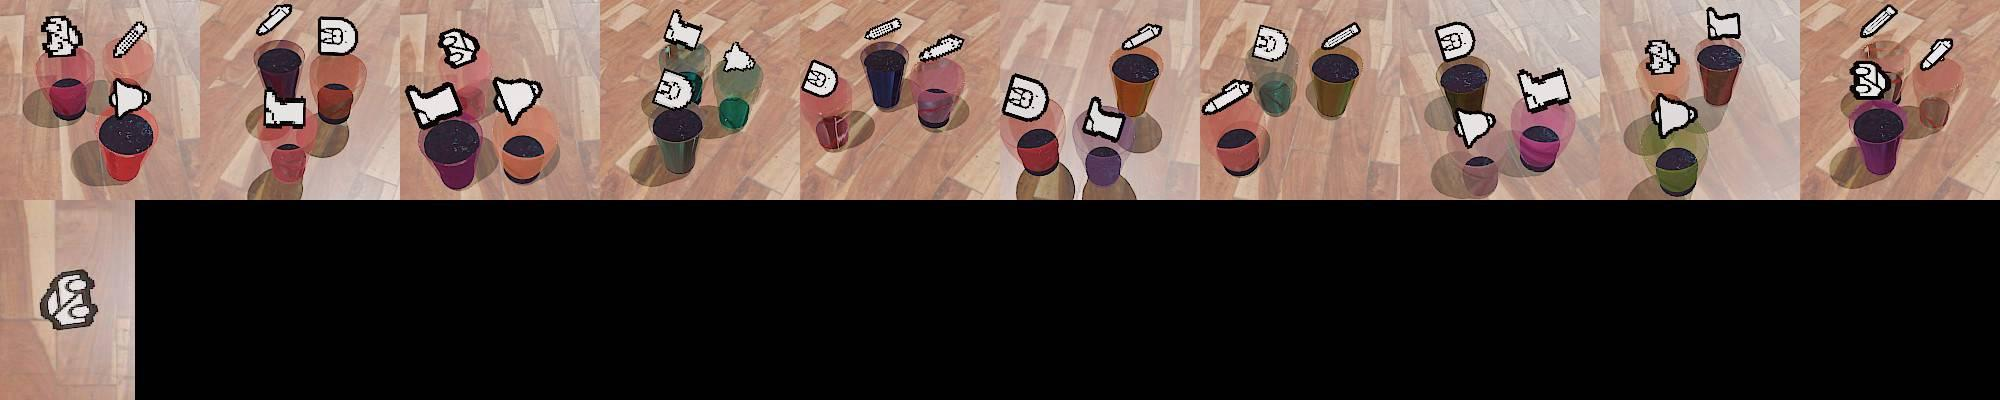icon: (36, 268, 97, 331), (405, 80, 464, 129), (1514, 66, 1572, 113), (491, 76, 543, 125), (1001, 72, 1050, 121), (1651, 89, 1698, 139), (1081, 94, 1128, 141), (652, 66, 701, 111), (1204, 77, 1253, 117), (41, 14, 83, 59), (262, 87, 308, 128), (1452, 107, 1495, 150), (107, 76, 152, 117), (1434, 21, 1476, 64), (663, 9, 705, 51), (437, 27, 480, 68), (1849, 60, 1891, 101), (317, 16, 358, 58), (1250, 24, 1289, 63), (801, 58, 839, 98), (915, 33, 964, 64), (112, 21, 148, 58), (1644, 39, 1680, 76), (1859, 4, 1898, 38), (1321, 21, 1361, 54), (256, 3, 293, 37), (1707, 6, 1742, 40), (1918, 37, 1953, 71), (1122, 22, 1163, 51), (720, 41, 757, 73), (864, 16, 901, 41)
